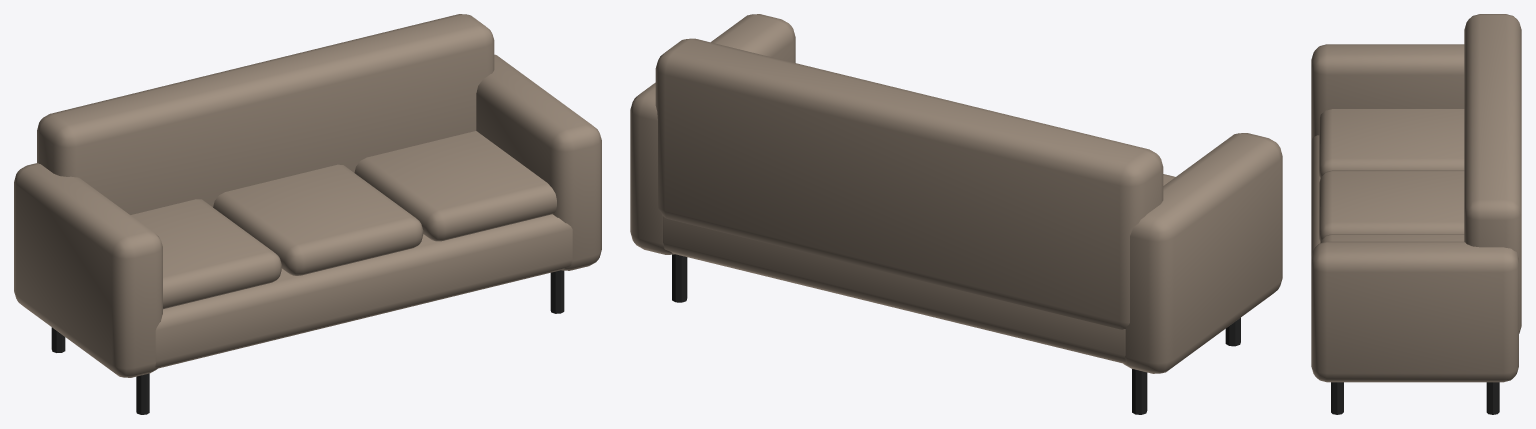
Rendered from couch.glb.
The picture shows the model from 3 angles, left to right: view 1: azimuth 30°, elevation 25°; view 2: azimuth 150°, elevation 25°; view 3: azimuth 270°, elevation 25°; orthographic projection. The views are drawn at different scales.
Parts seen in each view (by area): view 1: Couch; view 2: Couch; view 3: Couch.
Boxes of the visible parts, box(x1,y1,x2,y2) form: Couch: box(14, 14, 601, 414); Couch: box(630, 14, 1282, 414); Couch: box(1311, 14, 1521, 414).
Size of the model in its own units: 2 by 0.9 by 0.81.
